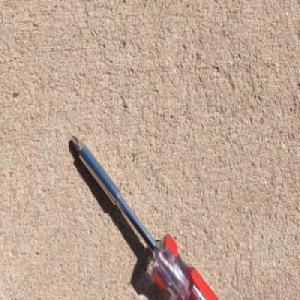Screwdriver: (69, 132, 223, 300)
